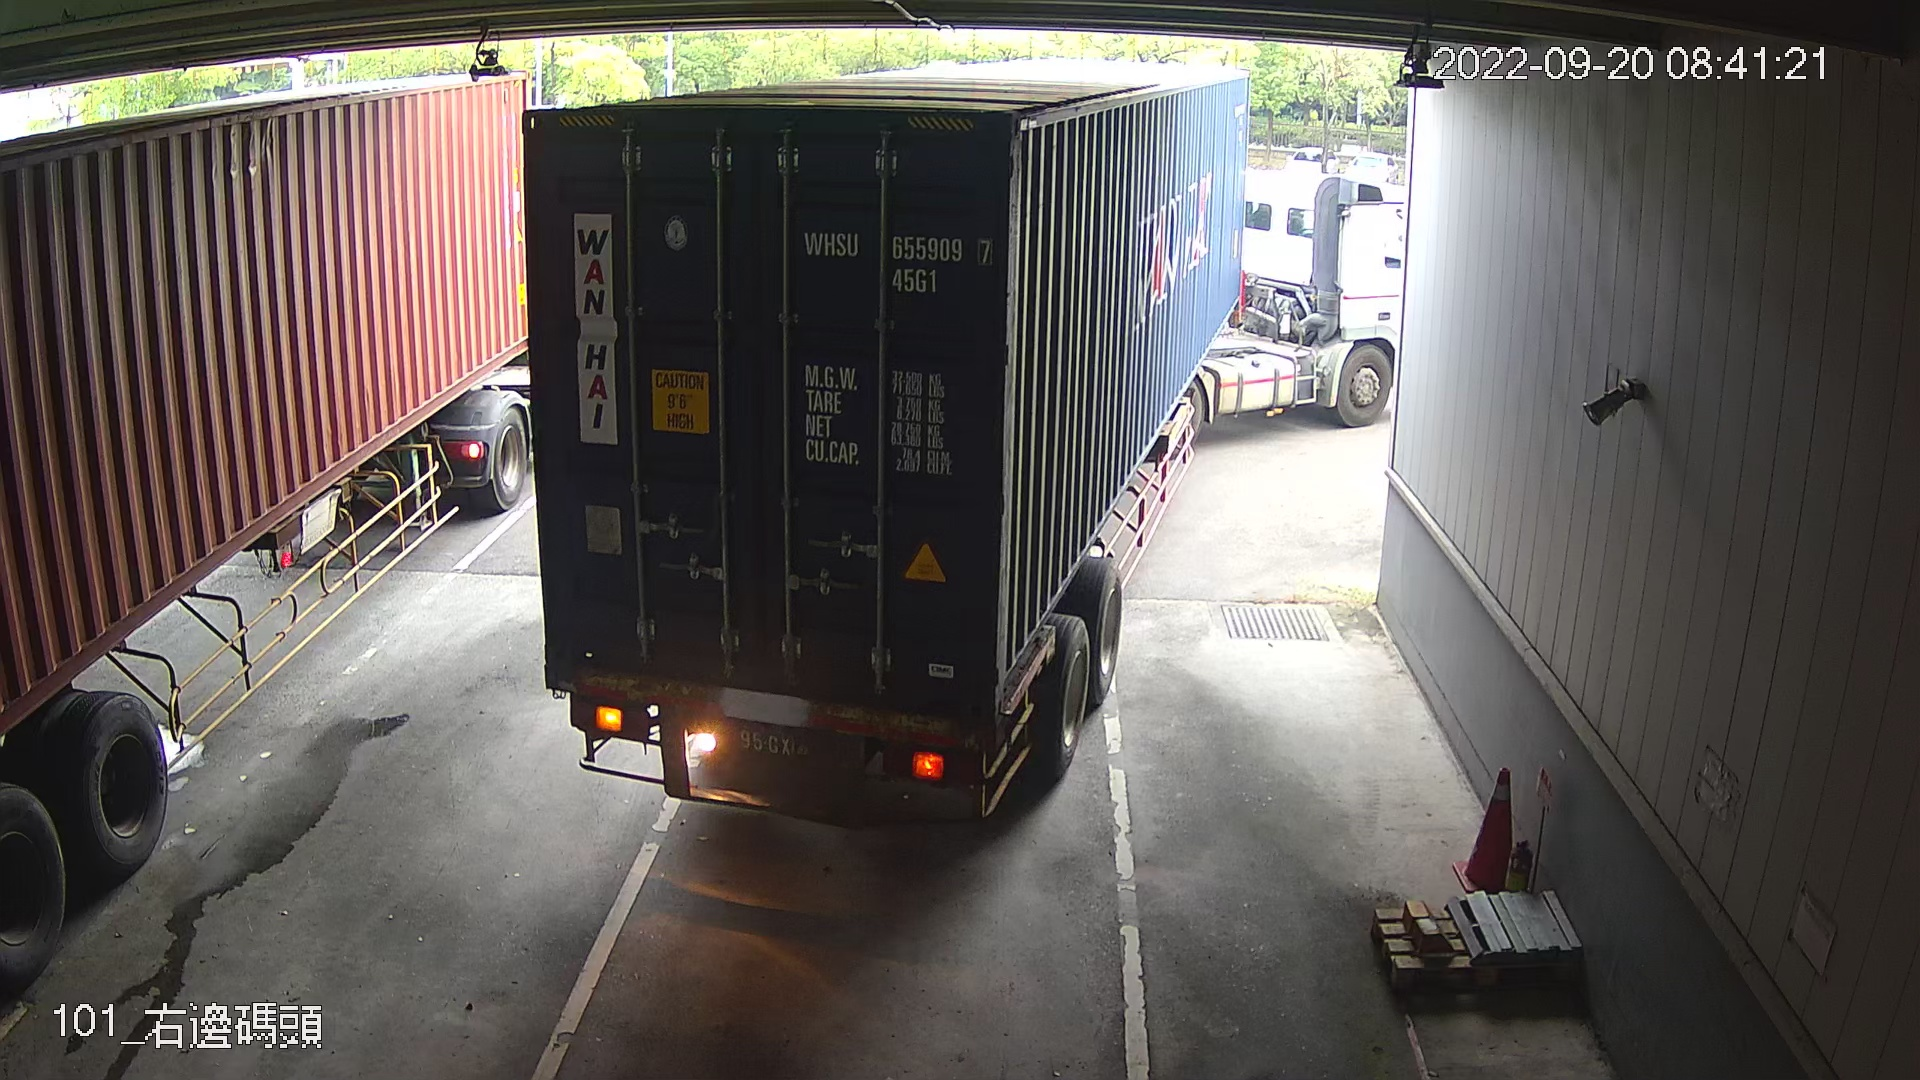container: (795, 220, 1001, 301)
